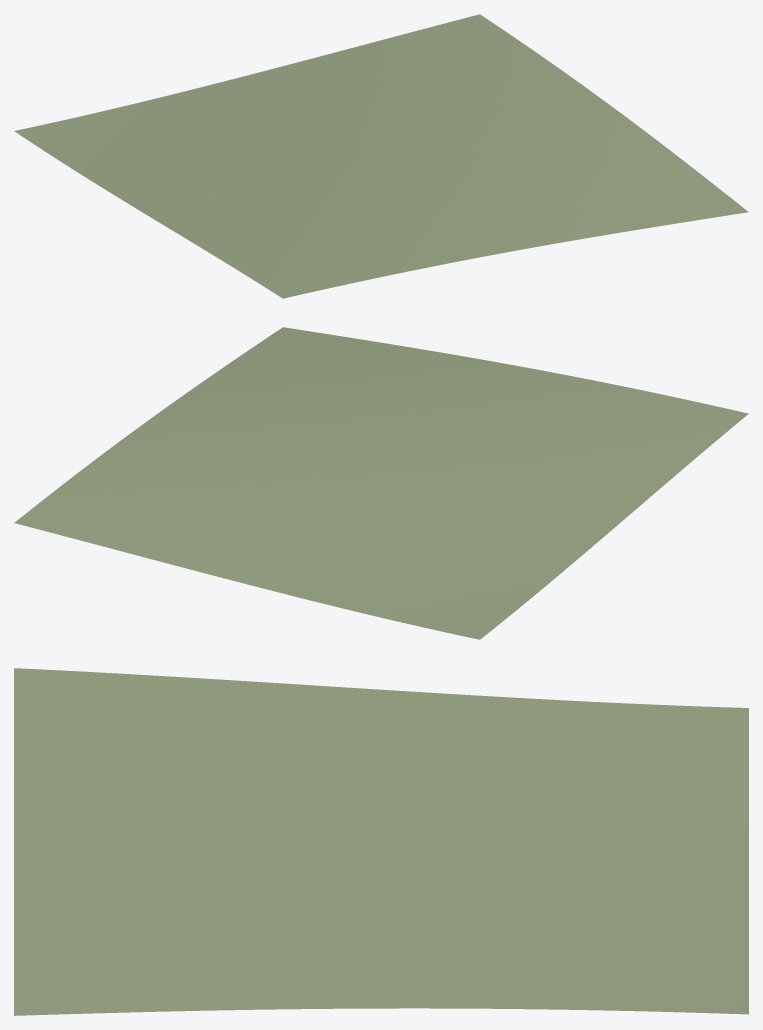
The model's file is alpine-8-15.glb.
3 renders of one model, top to bottom at view 1: azimuth 30°, elevation 25°; view 2: azimuth 150°, elevation 25°; view 3: azimuth 270°, elevation 25°, orthographic. The views are drawn at different scales.
Visible parts, largest first — view 1: alpine-8-15; view 2: alpine-8-15; view 3: alpine-8-15.
Boxes of the visible parts, x1,y1,x2,y2 form: alpine-8-15: (14, 14, 748, 298); alpine-8-15: (14, 327, 748, 639); alpine-8-15: (14, 668, 748, 1015).
Bounding box in the file's own units: 256 × 16.46 × 256.
